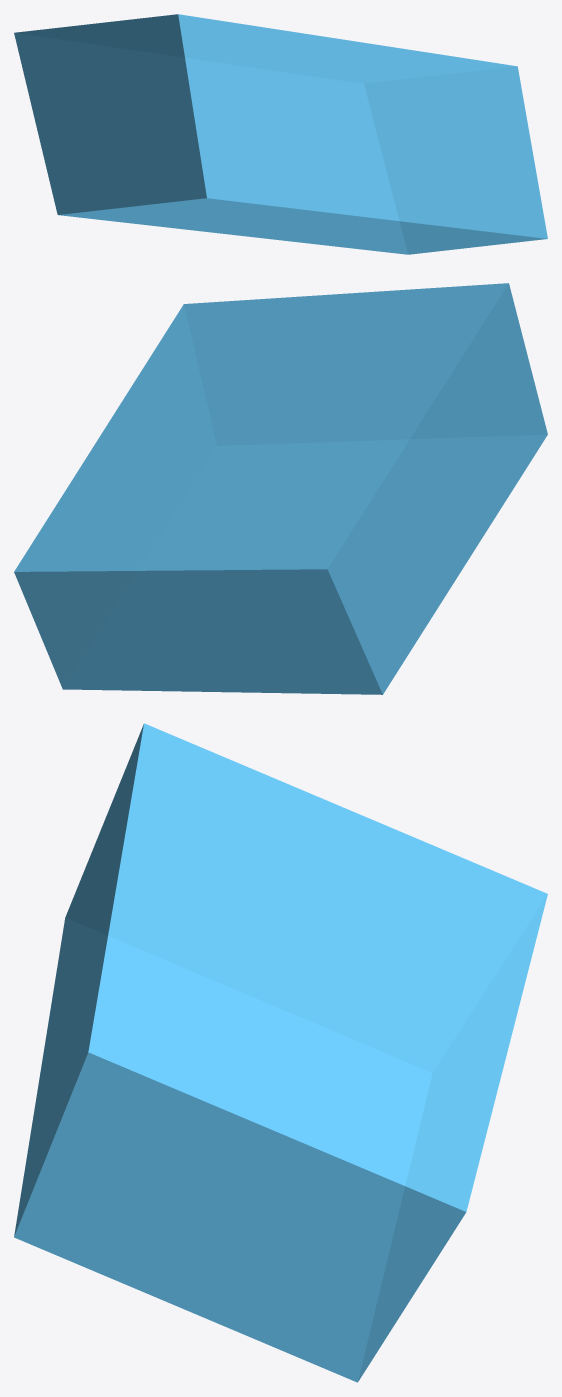
Rendered from Event_420094457_HErechit_56.fbx.
3 views of the same model, one above another, from view 1: azimuth 30°, elevation 25°; view 2: azimuth 150°, elevation 25°; view 3: azimuth 270°, elevation 25° (orthographic). The views are drawn at different scales.
Parts seen in each view (by area): view 1: Model; view 2: Model; view 3: Model.
Part boxes in pixels (x1=…): Model: x1=14, y1=14, x2=547, y2=254; Model: x1=14, y1=283, x2=547, y2=694; Model: x1=14, y1=723, x2=547, y2=1382.
Bounding box in the file's own units: 0.7623 × 0.8681 × 0.8952.
